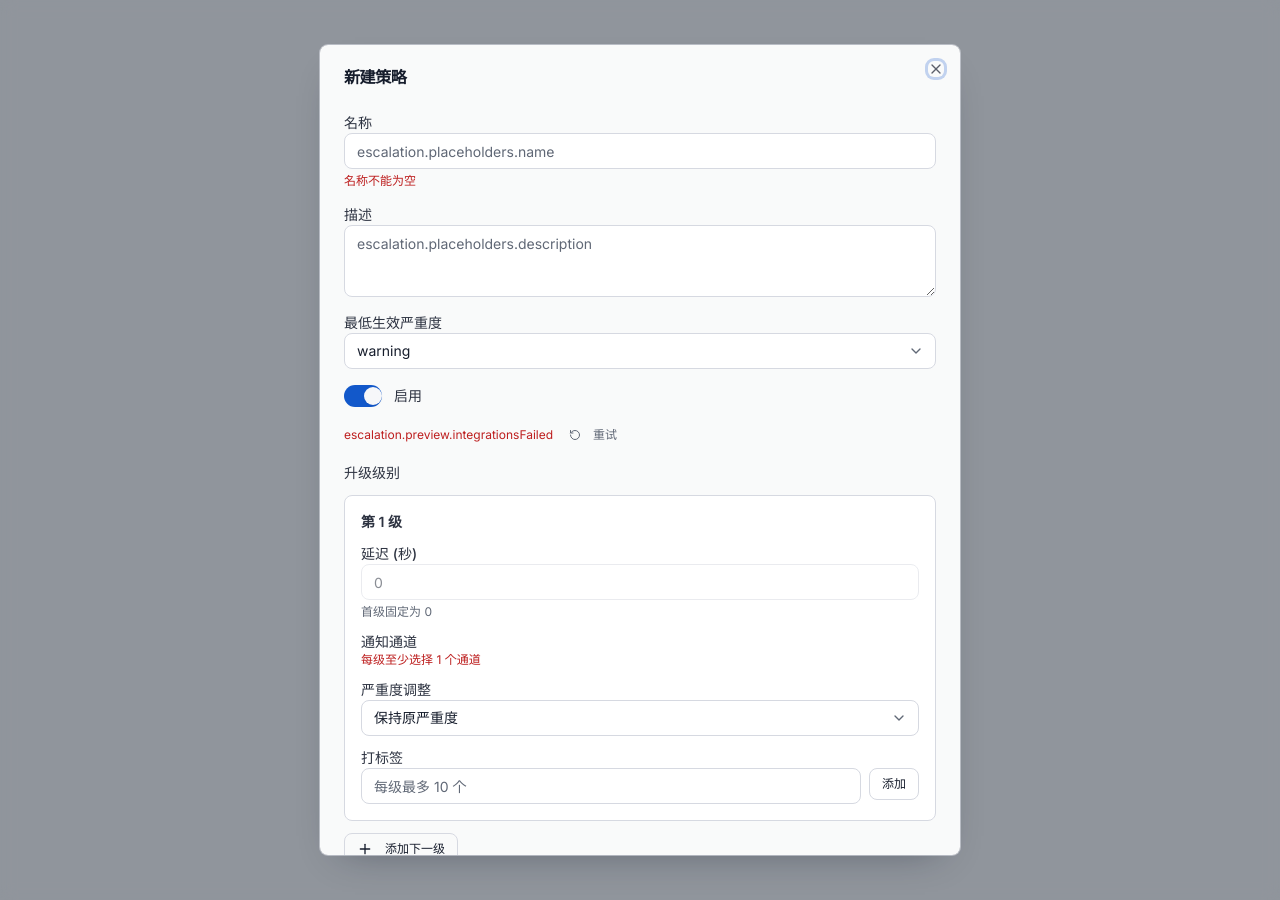
Scenario: EscalationPolicyEditor › handles integration fetch failure with retry
This screenshot has width=1280, height=900.
Step 1. Click the button "重试" → (593, 435), box [561,423,625,447]
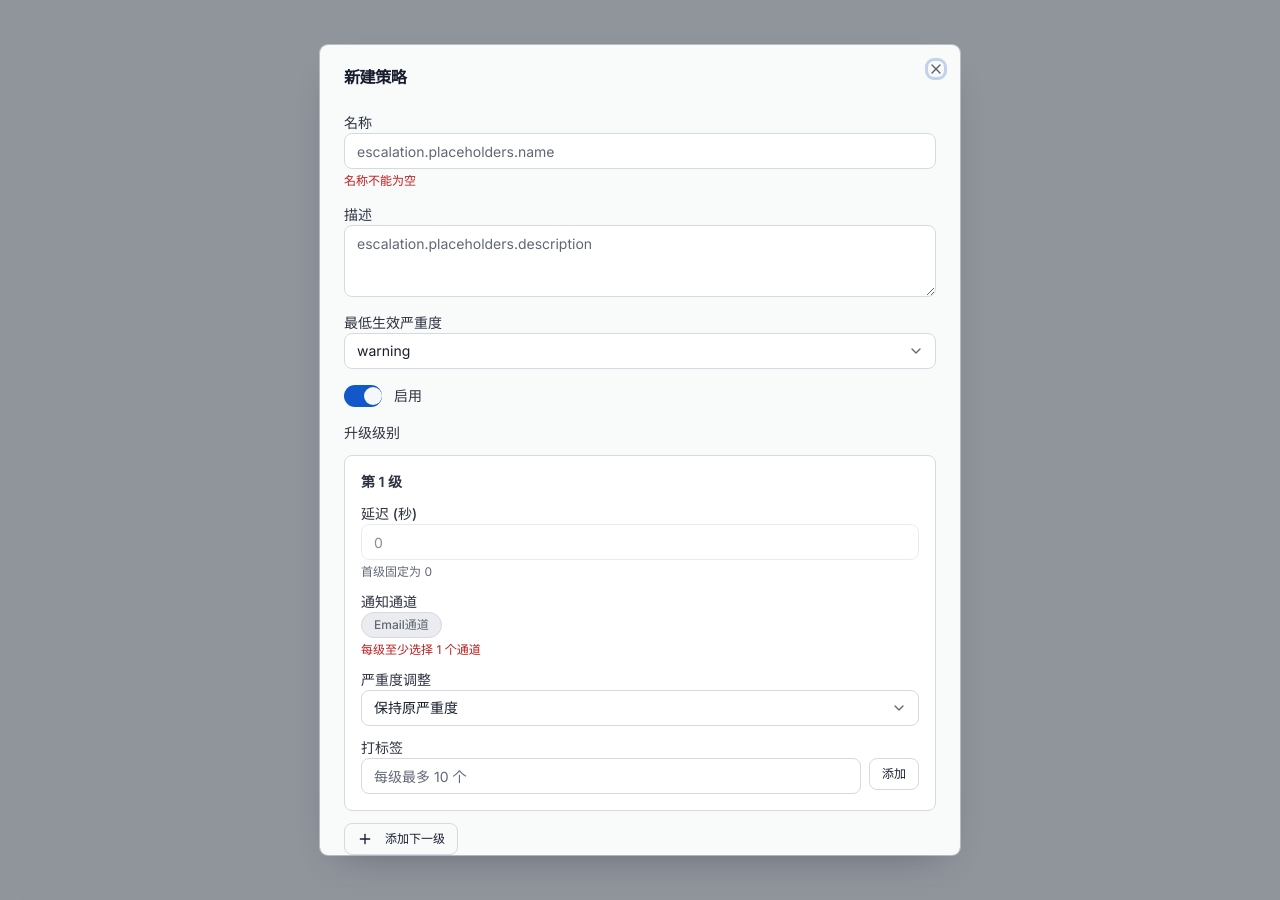
Now the button "Email通道" is shown, box [361,612,442,638]
